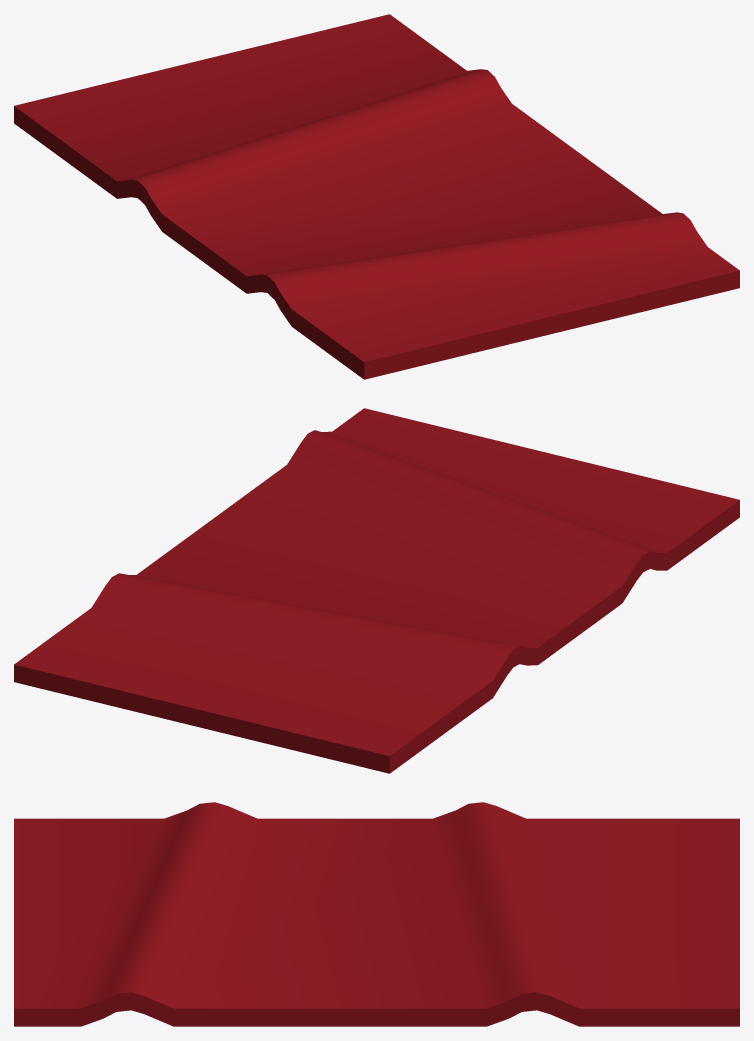
File: sushi-Decoration_Carpet.glb
3 views of the same model, one above another, from view 1: azimuth 30°, elevation 25°; view 2: azimuth 150°, elevation 25°; view 3: azimuth 270°, elevation 25° (orthographic). The views are drawn at different scales.
Parts seen in each view (by area): view 1: Decoration_Carpet; view 2: Decoration_Carpet; view 3: Decoration_Carpet.
Part boxes in pixels (x1=…): Decoration_Carpet: x1=14, y1=14, x2=739, y2=379; Decoration_Carpet: x1=14, y1=408, x2=739, y2=773; Decoration_Carpet: x1=14, y1=802, x2=739, y2=1026.
Bounding box in the file's own units: 2.48 × 0.2105 × 4.
1 material, 1 textured.
